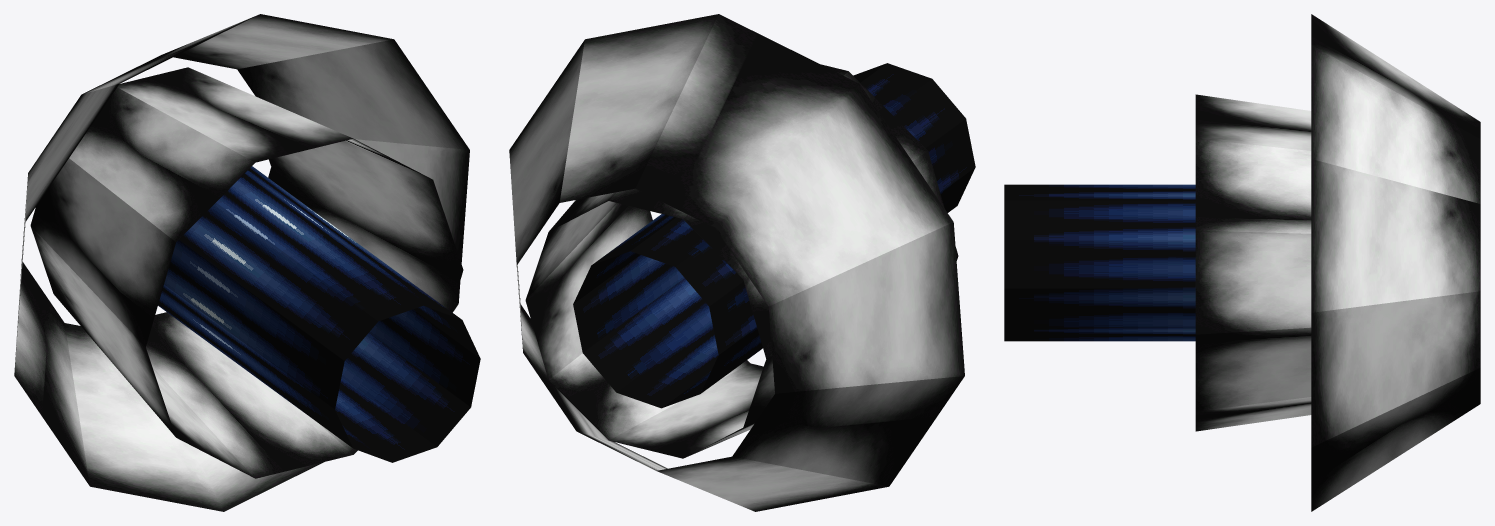
The model's file is tx_boss_bingzhifennu_fire.obj.
3 renders of one model, left to right at view 1: azimuth 30°, elevation 25°; view 2: azimuth 150°, elevation 25°; view 3: azimuth 270°, elevation 25°, orthographic. The views are drawn at different scales.
Parts seen in each view (by area): view 1: Cone03, Cone02, Cone01; view 2: Cone01, Cone02, Cone03; view 3: Cone01, Cone03, Cone02.
Part boxes in pixels (left/top/right/bottom): Cone03: left=30, top=67, right=463, bottom=478; Cone02: left=158, top=166, right=480, bottom=462; Cone01: left=14, top=14, right=469, bottom=511; Cone01: left=509, top=14, right=964, bottom=511; Cone02: left=573, top=63, right=975, bottom=408; Cone03: left=525, top=64, right=958, bottom=458; Cone01: left=1311, top=14, right=1480, bottom=511; Cone03: left=1195, top=94, right=1311, bottom=431; Cone02: left=1004, top=184, right=1195, bottom=341.
Size of the model in its own units: 110 by 112 by 107.
2 materials, 2 textured.
